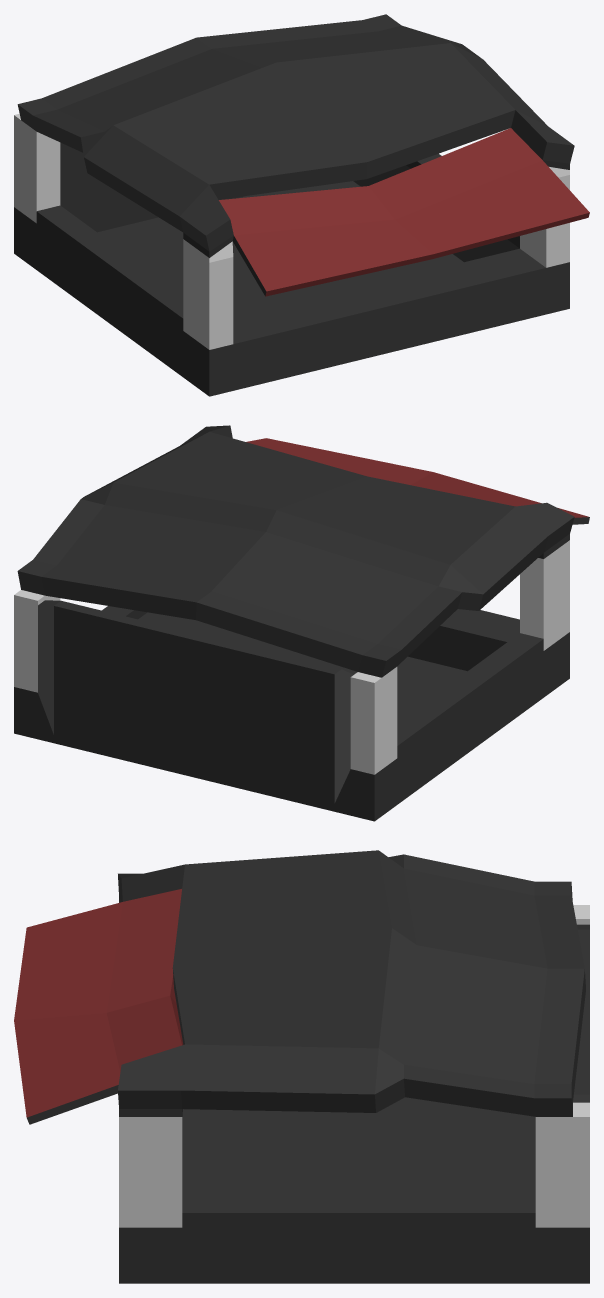
The model's file is Building1.glb.
3 views of the same model, one above another, from view 1: azimuth 30°, elevation 25°; view 2: azimuth 150°, elevation 25°; view 3: azimuth 270°, elevation 25° (orthographic). The views are drawn at different scales.
Visible parts, largest first — view 1: Cube; view 2: Cube; view 3: Cube.
Part boxes in pixels (x1,y1,x2,y2): Cube: (14,14,589,396); Cube: (14,425,589,821); Cube: (14,850,589,1283).
Size of the model in its own units: 23.44 by 11.62 by 24.3.
1 material, 1 textured.
